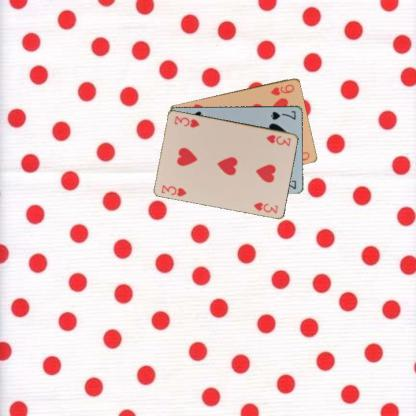3h: (159, 182, 188, 198), (263, 132, 292, 147)
7s: (268, 108, 297, 121)
9h: (268, 82, 295, 96)
